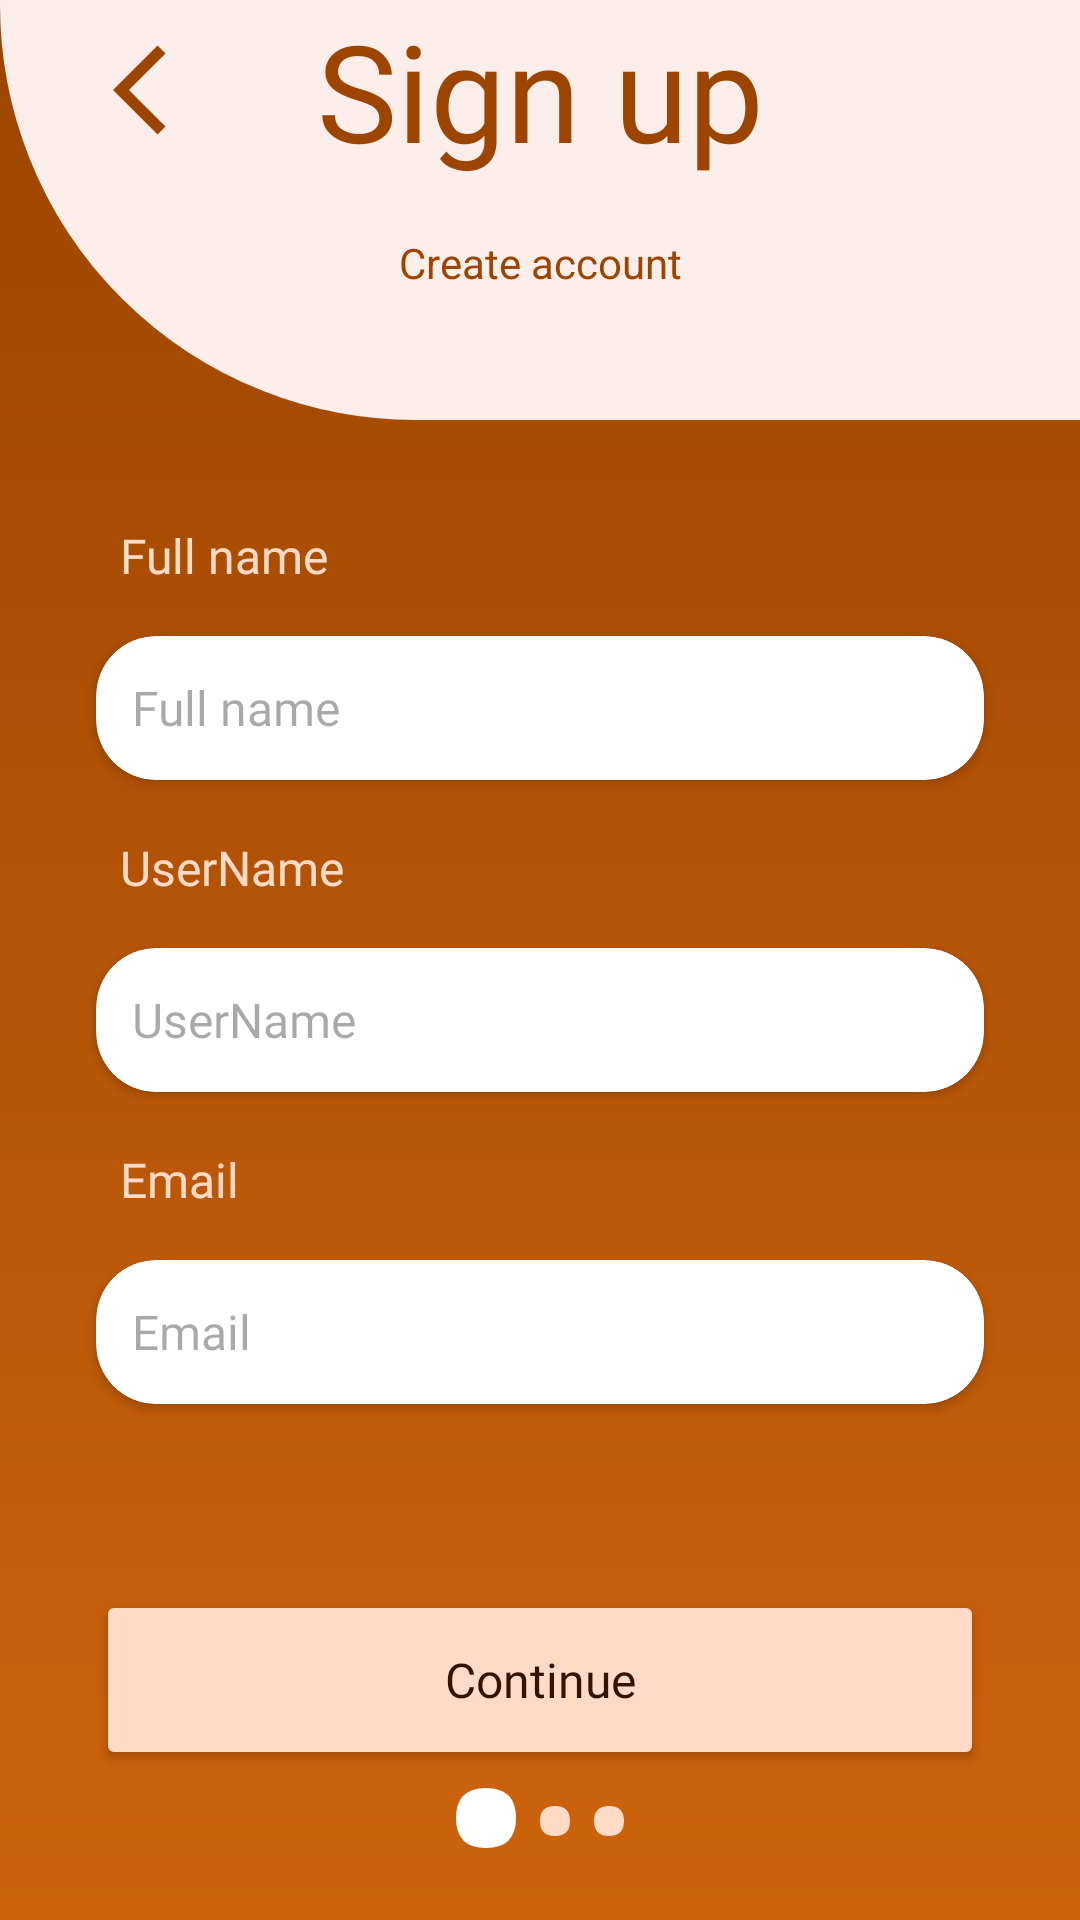

Screen size 1080w x 1920h. Icon name, then its center in pixels as point (x, y):
dots: point (540, 1818)
